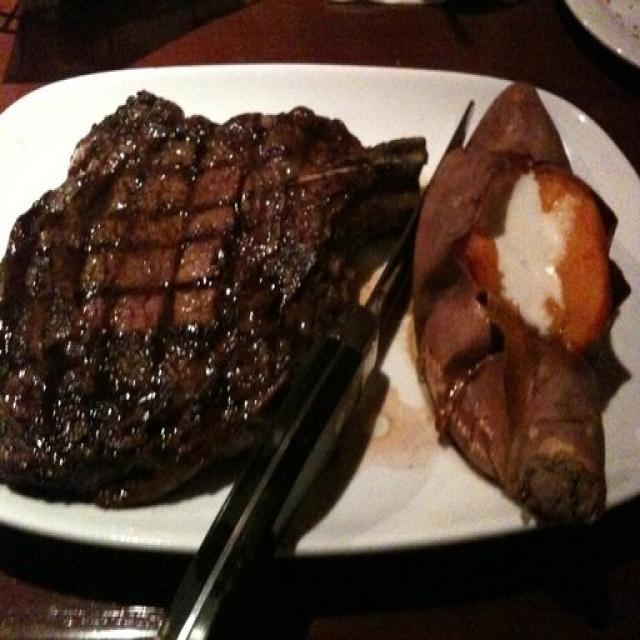Steak: (43, 110, 354, 418), (435, 55, 617, 523)
